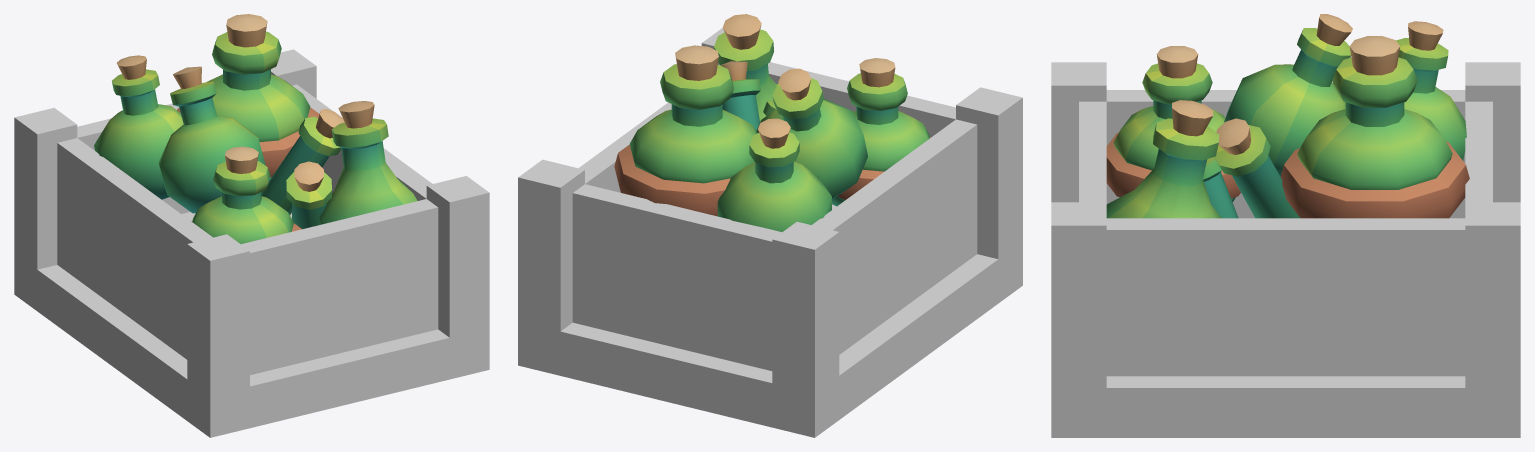
The model's file is PotionBoxGreen.fbx.
3 views of the same model, side by side, from view 1: azimuth 30°, elevation 25°; view 2: azimuth 150°, elevation 25°; view 3: azimuth 270°, elevation 25° (orthographic). The views are drawn at different scales.
Parts seen in each view (by area): view 1: plan, potion_huge_red.001; view 2: plan, potion_huge_red.001; view 3: plan, potion_huge_red.001.
Boxes of the visible parts, x1,y1,x2,y2 form: plan: (14,49,489,437); potion_huge_red.001: (94,14,417,243); plan: (518,28,1022,437); potion_huge_red.001: (614,14,930,232); plan: (1051,62,1520,437); potion_huge_red.001: (1106,14,1469,218).
Size of the model in its own units: 0.3234 by 0.308 by 0.3927.
